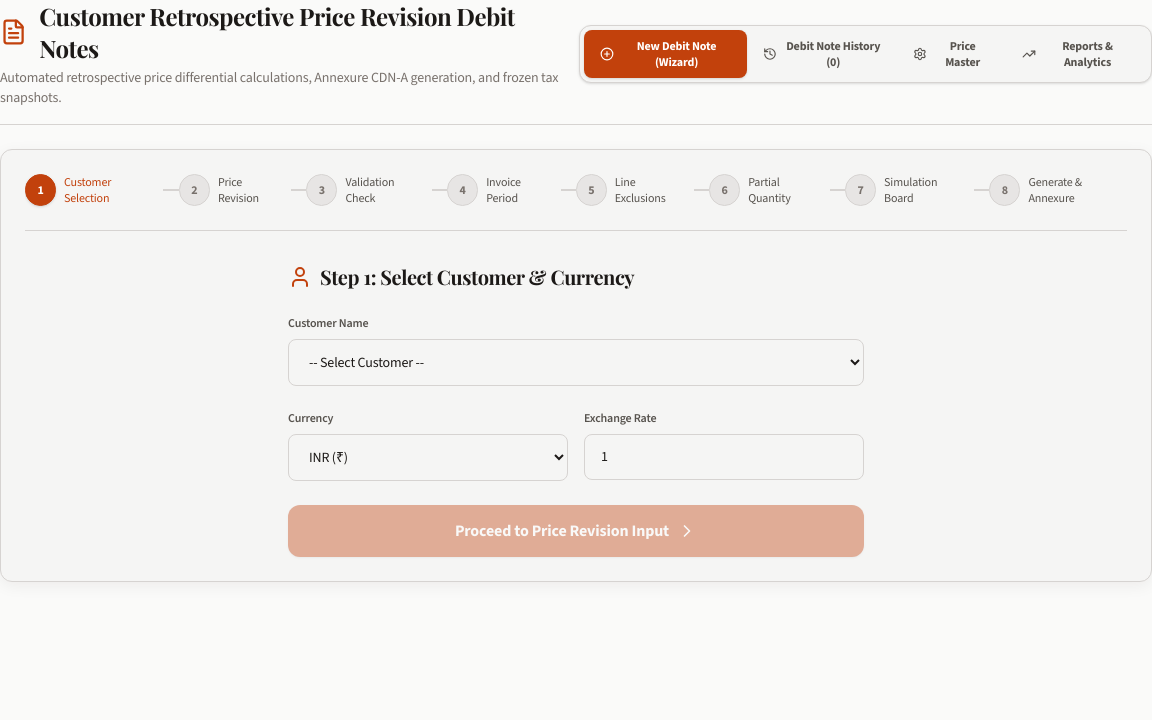
Test: CustomerDebitNotesTab - History Edit Integration › 1. Edit action button appears only for editable statuses (Created, Verified, Approved)
Step 1. Click the button "Debit Note History (0)" → (822, 54), box [747,30,897,78]
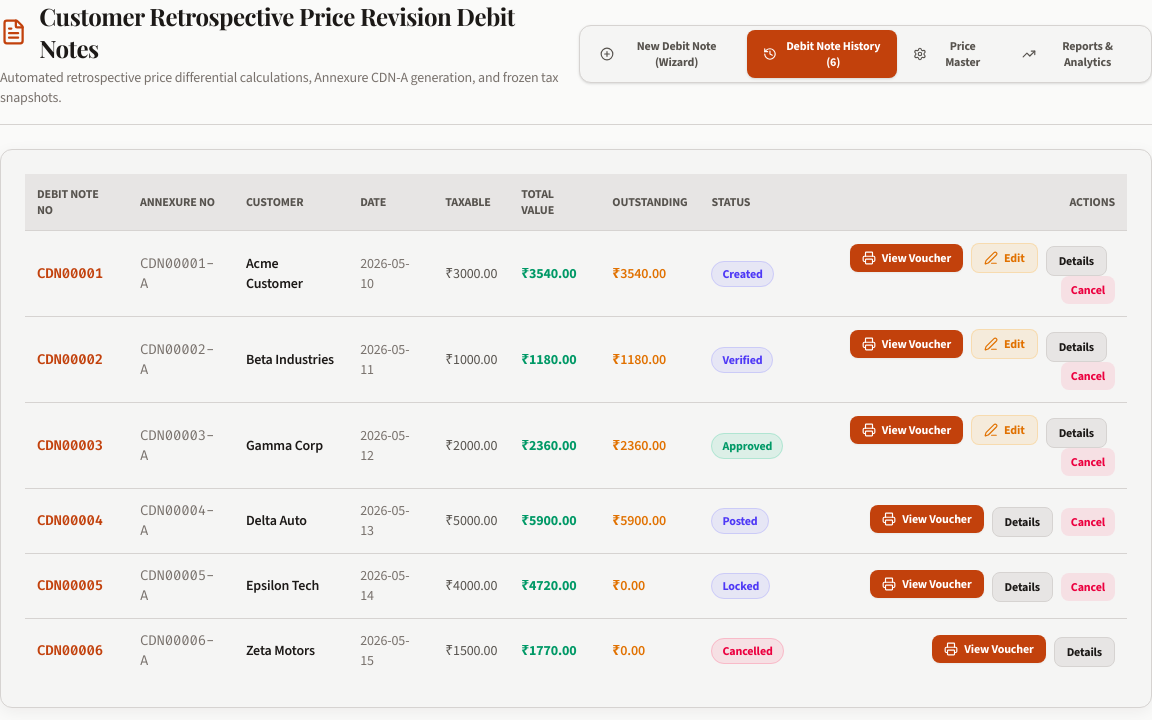
Expected: the text "CDN00001" is shown, [25,230,128,316]
Expected: the text "CDN00004" is shown, [25,488,128,554]
Expected: the number of buttons titled "Edit Debit Note lines" is 3, [971,243,1038,273]; [971,329,1038,359]; [971,415,1038,445]
